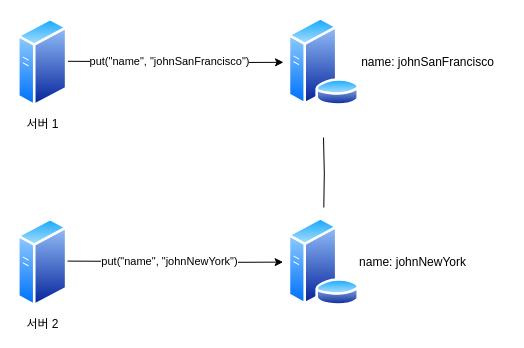
This 524x348 diagram has some shape labels left out. Here are the shapes that lost their labels. From the top down, the centre of each, then its label:
At [323,61]: "n1".
At [323,261]: "n2".
